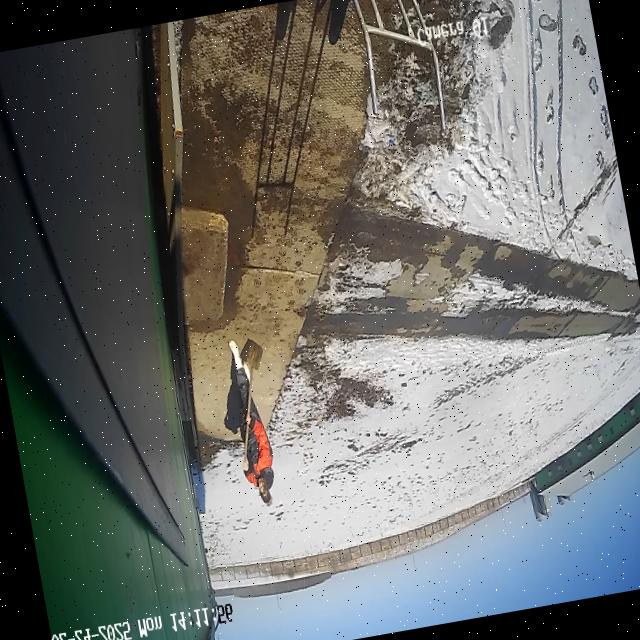Red uniform: (239, 396, 274, 506), (228, 340, 251, 400)
